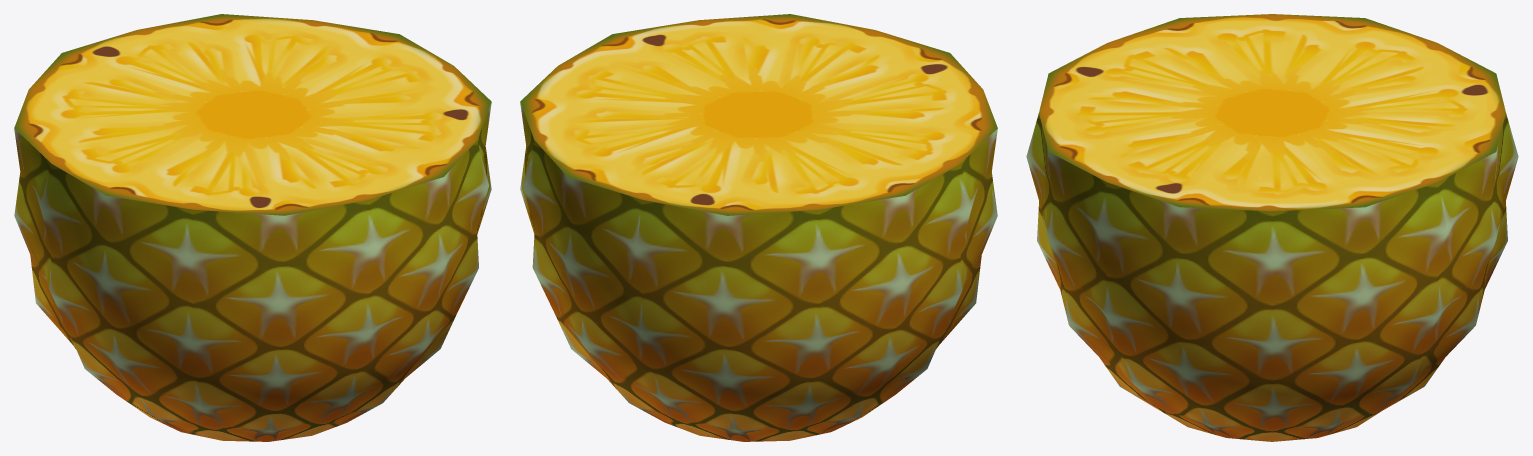
File: Pineapple_Half.fbx
The picture shows the model from 3 angles, left to right: view 1: azimuth 30°, elevation 25°; view 2: azimuth 150°, elevation 25°; view 3: azimuth 270°, elevation 25°; orthographic projection.
Visible parts, largest first — view 1: Pineapple_Half; view 2: Pineapple_Half; view 3: Pineapple_Half.
Part boxes in pixels (left/top/right/bottom): Pineapple_Half: left=14, top=14, right=491, bottom=441; Pineapple_Half: left=520, top=14, right=997, bottom=441; Pineapple_Half: left=1026, top=14, right=1518, bottom=441.
Size of the model in its own units: 50.57 by 33.61 by 50.57.
